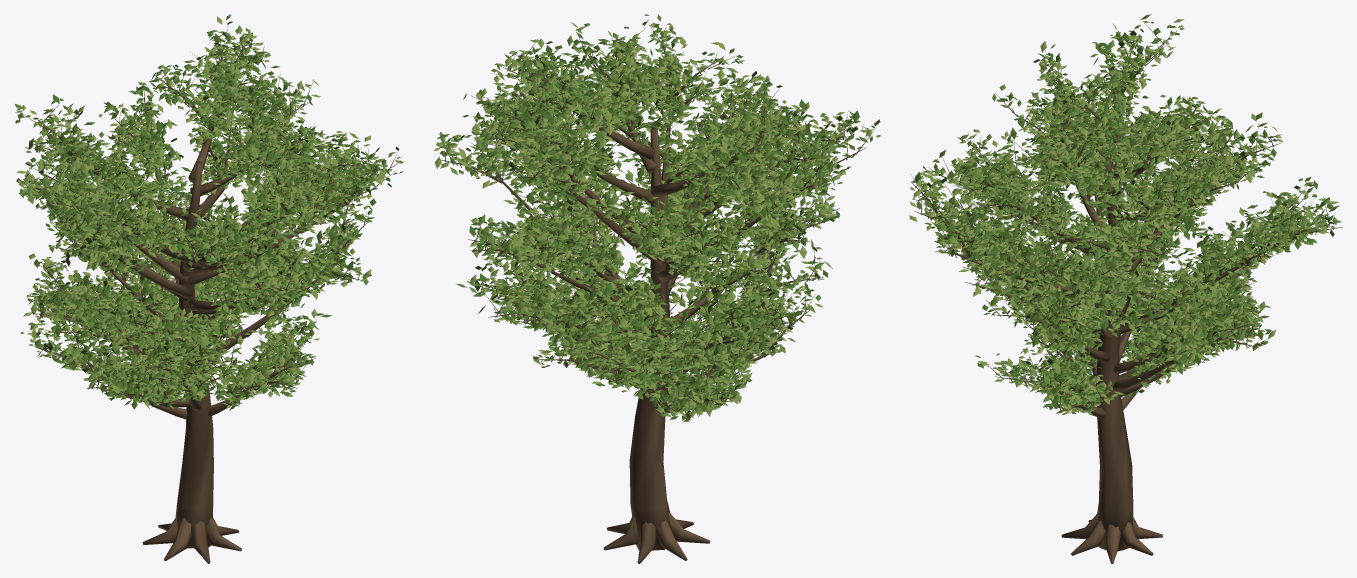
File: broadleaf.glb
3 views of the same model, side by side, from view 1: azimuth 30°, elevation 25°; view 2: azimuth 150°, elevation 25°; view 3: azimuth 270°, elevation 25° (orthographic). The views are drawn at different scales.
Parts seen in each view (by area): view 1: Tree | individual folded leaves, Tree | trunk, roots and branching structure; view 2: Tree | individual folded leaves, Tree | trunk, roots and branching structure; view 3: Tree | individual folded leaves, Tree | trunk, roots and branching structure.
Boxes of the visible parts, <box> form: Tree | individual folded leaves: <box>15,14,403,410</box>; Tree | trunk, roots and branching structure: <box>22,24,397,563</box>; Tree | individual folded leaves: <box>434,14,880,421</box>; Tree | trunk, roots and branching structure: <box>437,26,875,563</box>; Tree | individual folded leaves: <box>909,14,1341,415</box>; Tree | trunk, roots and branching structure: <box>911,23,1342,563</box>.
Size of the model in its own units: 7.11 by 8.67 by 7.16.
